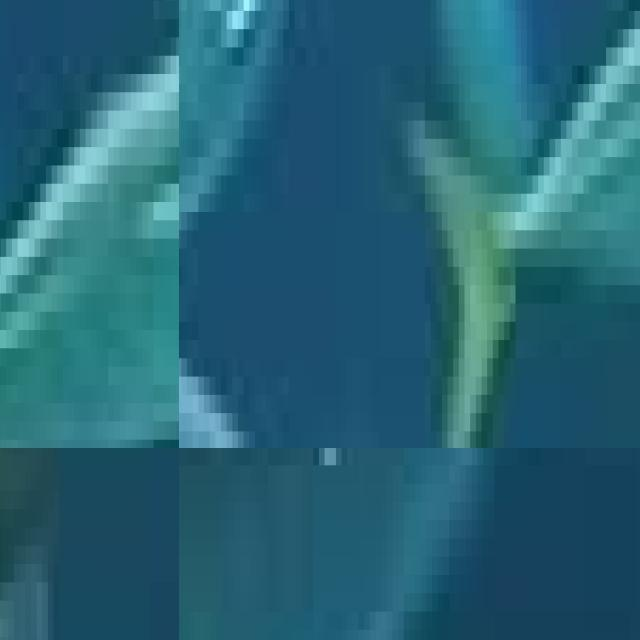fish: (0, 0, 179, 448), (0, 448, 179, 640)
